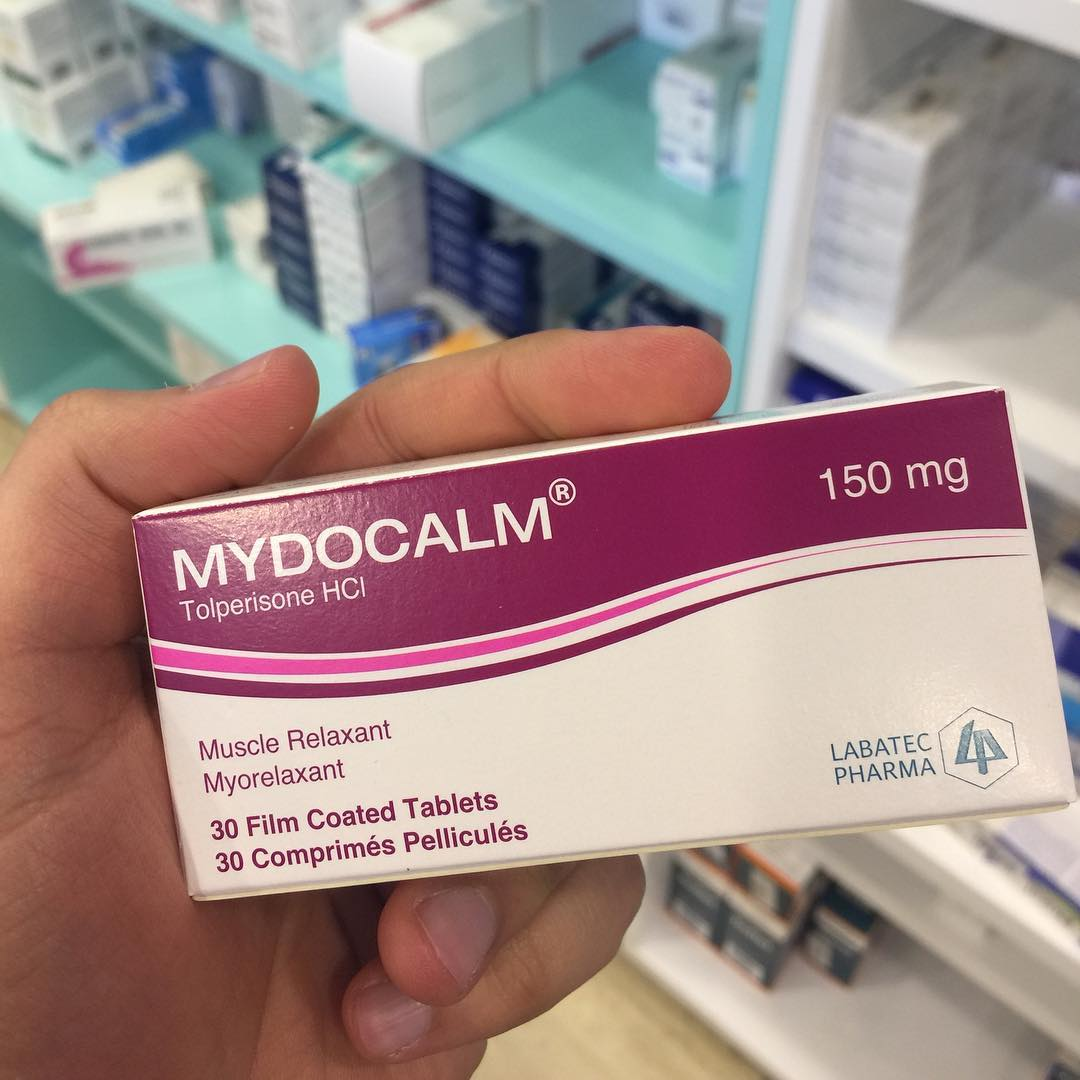Medicine: (123, 360, 1080, 907)
